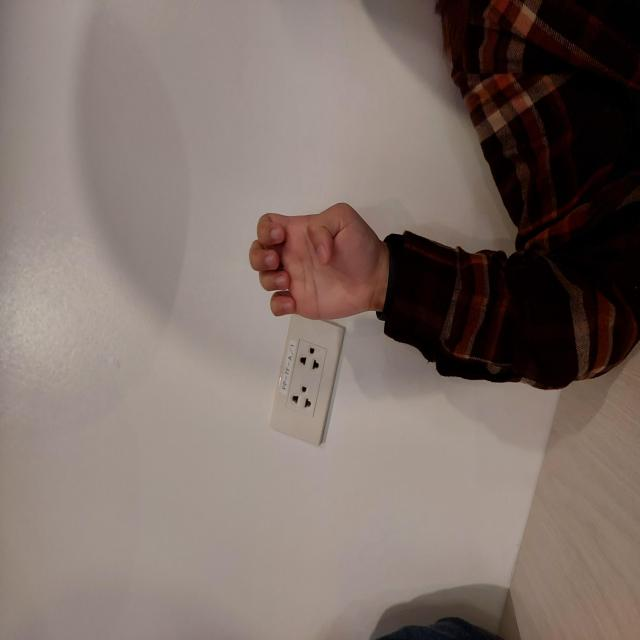E: (317, 248, 443, 386)
